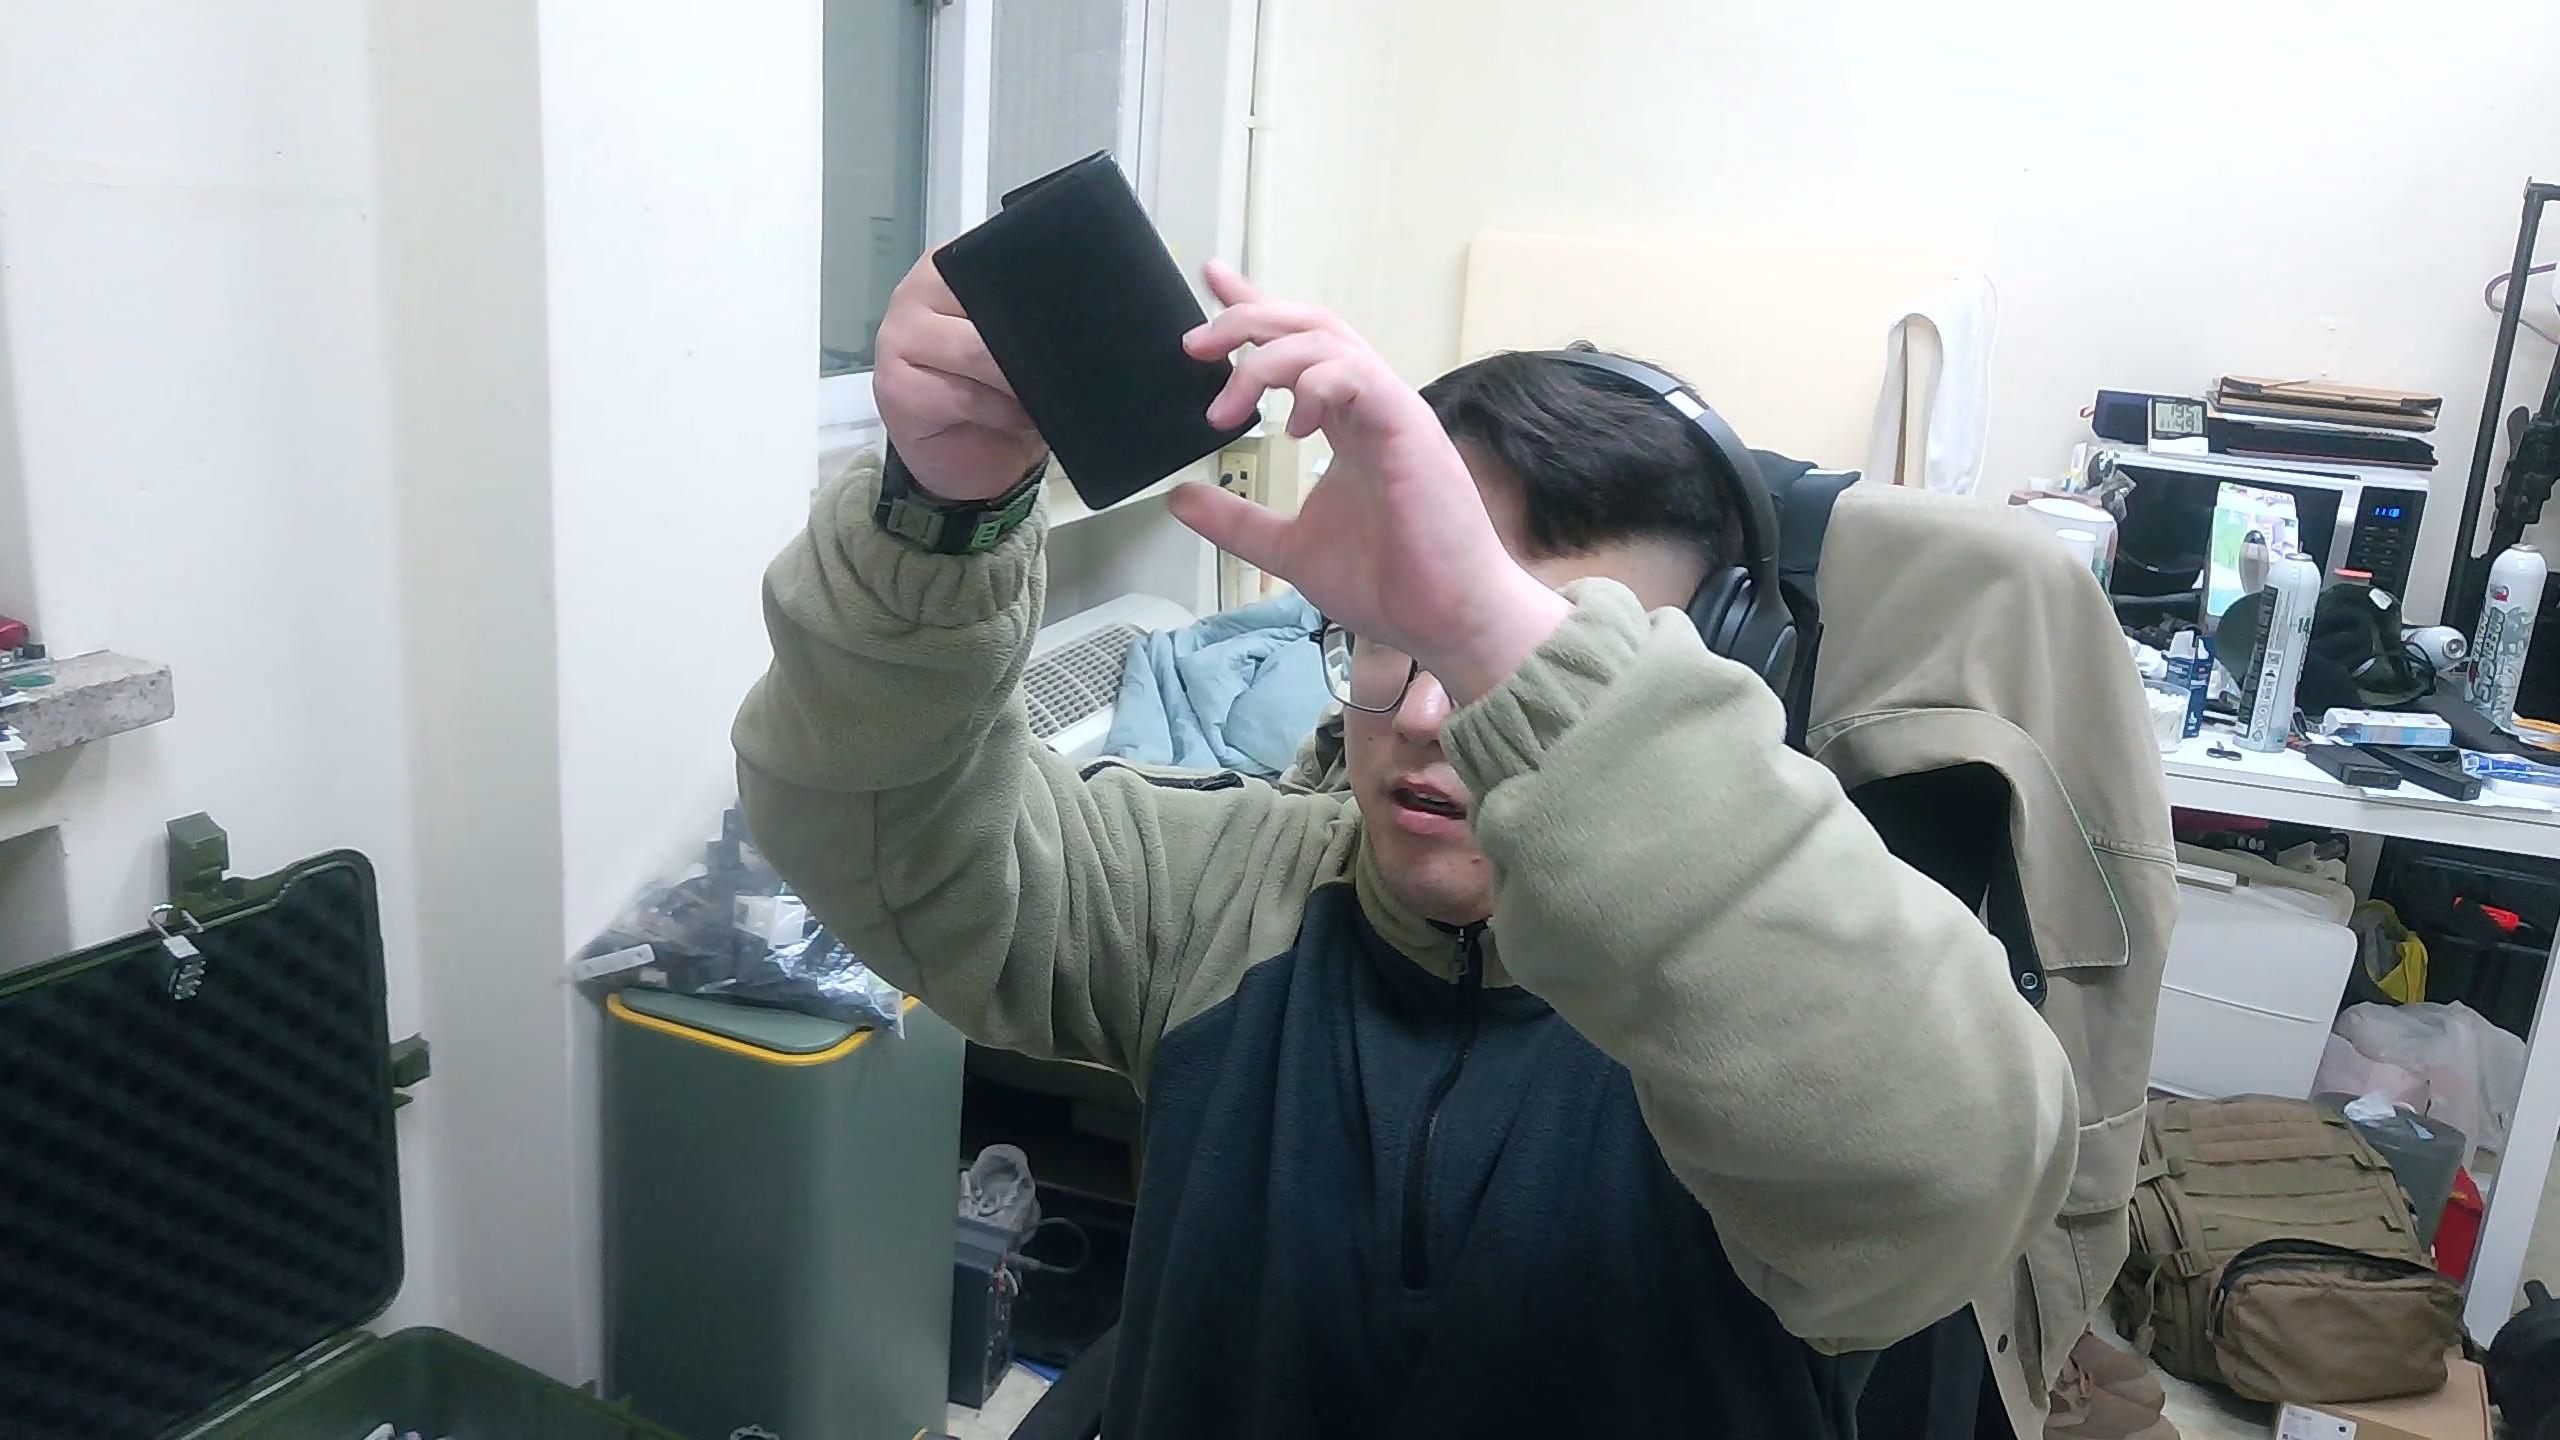earphone: (930, 148, 1266, 517)
